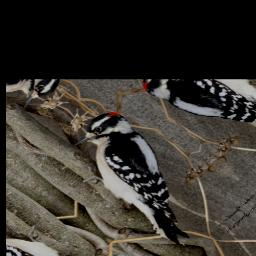Woodpecker: (50, 105, 235, 250)
